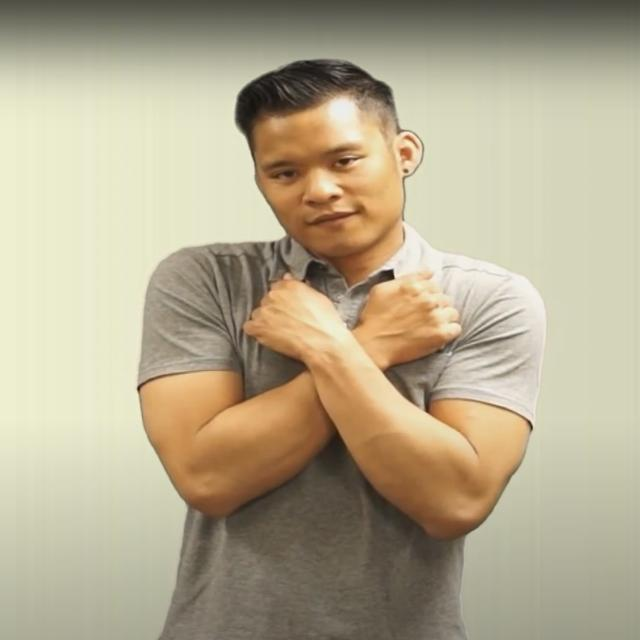love: (243, 268, 461, 364)
